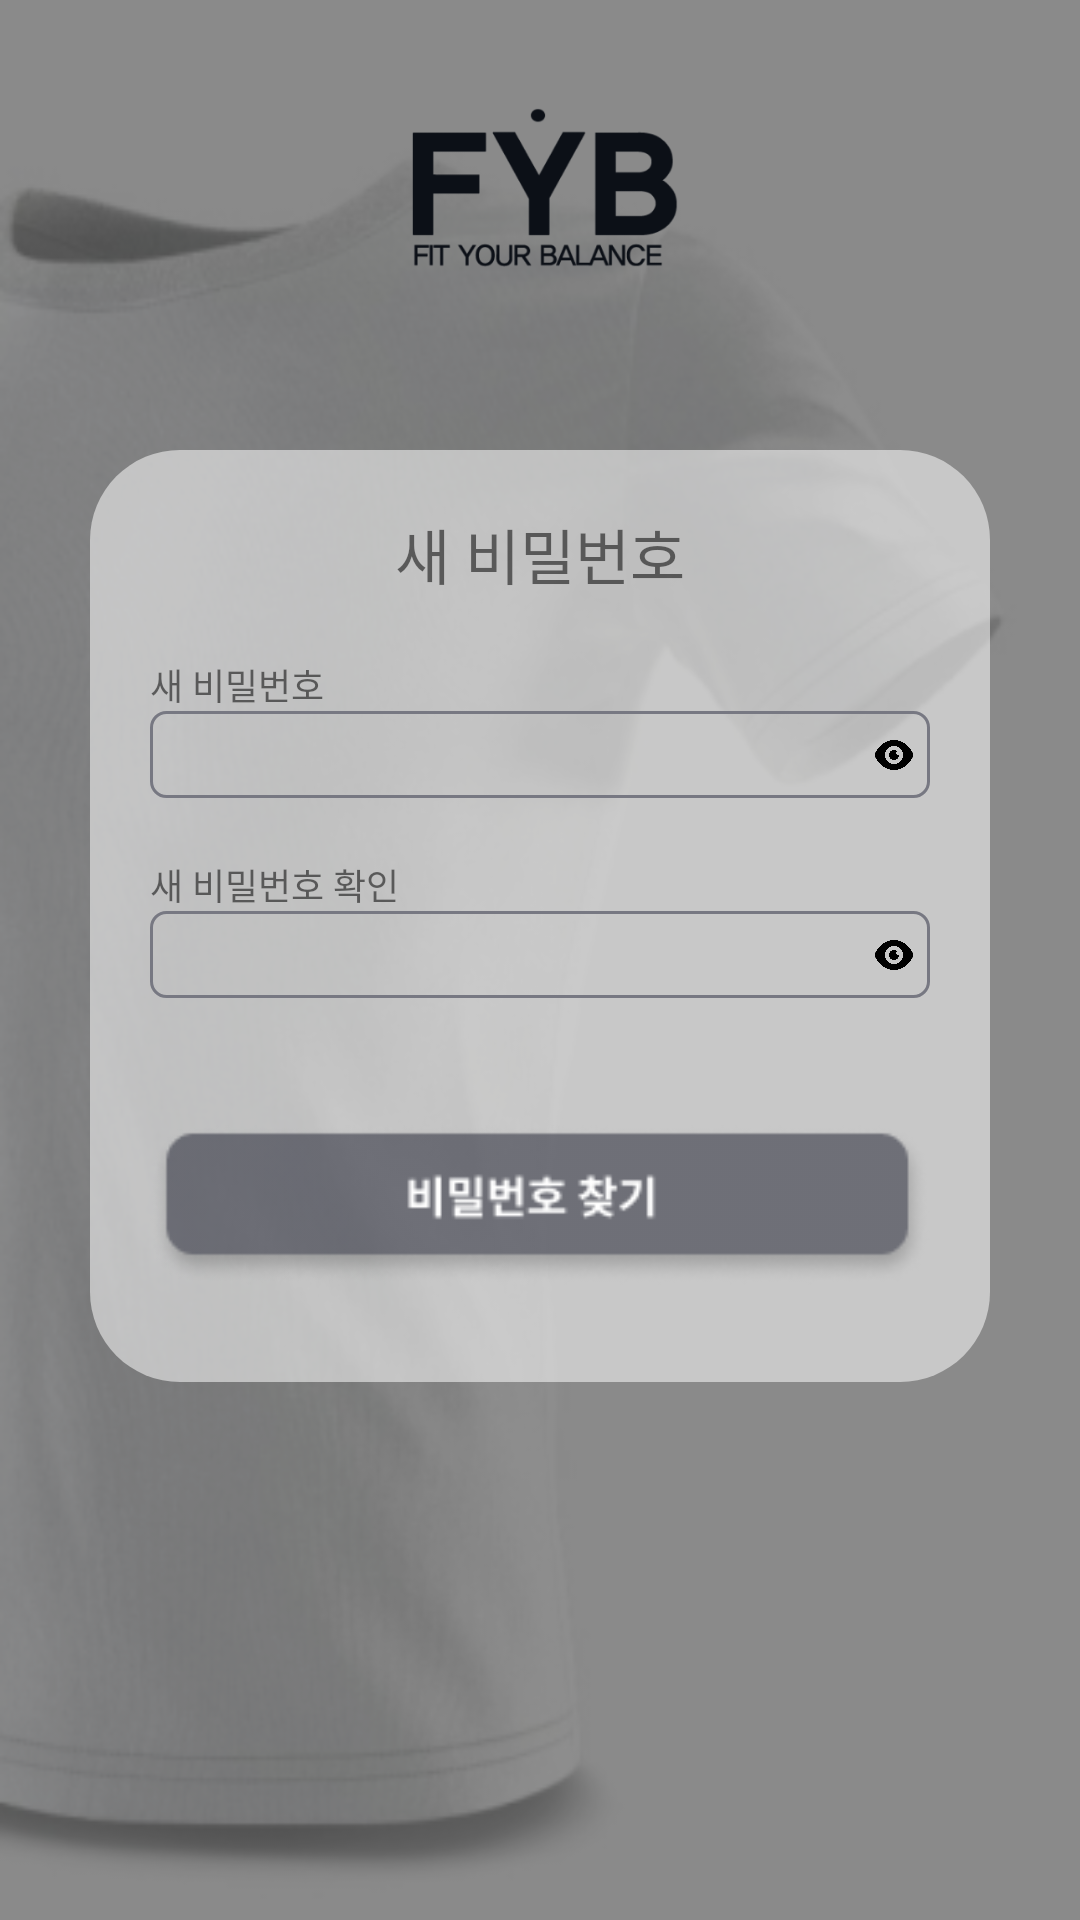

Locate icon controls on the screen. Image size 1080px x 1920px, boxes as bbox=[x1, y1, x2, y2].
eye open: bbox=[875, 740, 913, 770], bbox=[875, 940, 913, 970]
